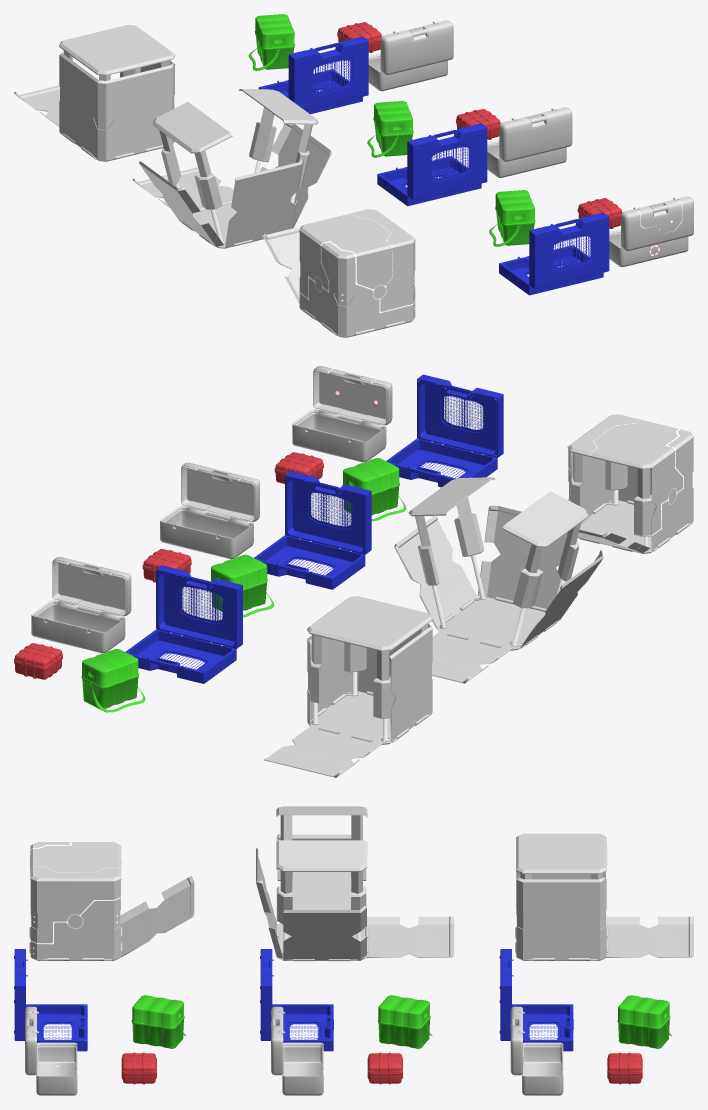
The model's file is toolBox_all.fbx.
3 views of the same model, one above another, from view 1: azimuth 30°, elevation 25°; view 2: azimuth 150°, elevation 25°; view 3: azimuth 270°, elevation 25° (orthographic). The views are drawn at different scales.
Visible parts, largest first — view 1: Cube.024, Cube.014, Cube.005, Cube.002, Case.015, Case.003, Cube.013, Case.009, Cube.023, Lid, Lid.001, Lid.002 (+26 smaller); view 2: Cube.002, Cube.005, Case.009, Case.003, Case.015, Cube.006, Cube.013, ToolBox.002, ToolBox.001, ToolBox, Cube.007, Cube.023 (+29 smaller); view 3: Cube.015, Cube.025, Cube.006, Cube.007, Cube.003, Cube.012, Cube.022, Cube.004, Cube.016, Cube.026, MedBox.001, MedBox.002 (+22 smaller).
Part boxes in pixels (<box>): Cube.024: <box>346,241,415,336</box>; Cube.014: <box>106,62,174,160</box>; Cube.005: <box>225,158,303,247</box>; Cube.002: <box>153,102,232,209</box>; Case.015: <box>529,212,609,289</box>; Case.003: <box>407,123,487,199</box>; Cube.013: <box>59,53,106,160</box>; Case.009: <box>288,36,368,110</box>; Cube.023: <box>299,231,346,336</box>; Lid: <box>499,107,572,161</box>; Lid.001: <box>380,20,453,74</box>; Lid.002: <box>621,196,693,250</box>; Cube.002: <box>502,491,588,608</box>; Cube.005: <box>477,505,567,611</box>; Case.009: <box>156,565,242,648</box>; Case.003: <box>285,471,371,554</box>; Case.015: <box>417,374,503,457</box>; Cube.006: <box>394,515,477,628</box>; Cube.013: <box>389,623,432,742</box>; ToolBox.002: <box>292,409,386,462</box>; ToolBox.001: <box>31,600,125,653</box>; ToolBox: <box>160,505,253,559</box>; Cube.007: <box>408,477,495,585</box>; Cube.023: <box>650,438,693,551</box>; Cube.015: <box>523,877,606,960</box>; Cube.025: <box>37,880,120,960</box>; Cube.006: <box>283,906,366,961</box>; Cube.007: <box>276,840,367,924</box>; Cube.003: <box>365,916,454,957</box>; Cube.012: <box>606,916,693,957</box>; Cube.022: <box>120,876,194,957</box>; Cube.004: <box>276,834,351,921</box>; Cube.016: <box>516,851,607,928</box>; Cube.026: <box>30,860,121,928</box>; MedBox.001: <box>617,995,670,1048</box>; MedBox.002: <box>131,995,184,1048</box>.
Size of the model in its own units: 505 by 142 by 754.
